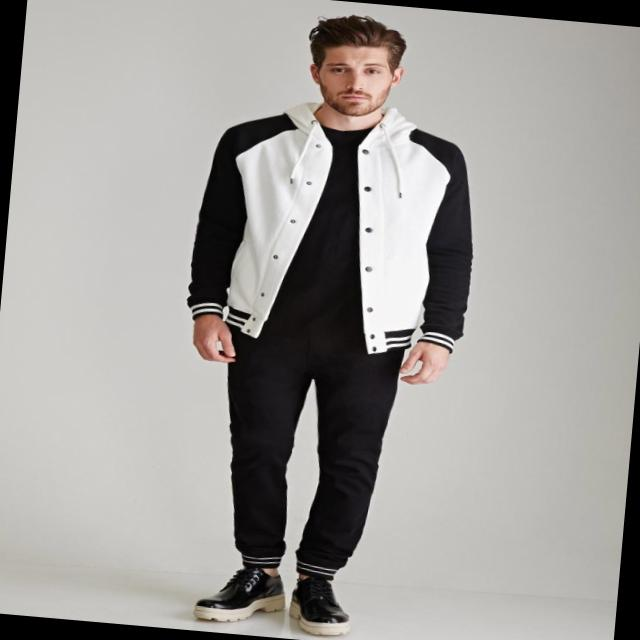Jacket: (172, 102, 486, 355)
